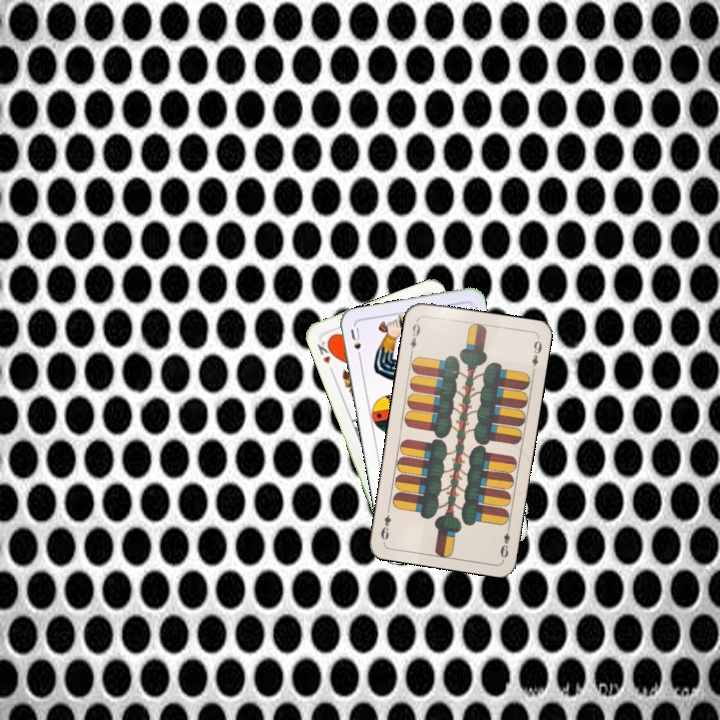E9: (406, 316, 423, 356), (496, 521, 513, 560)
HK: (313, 336, 337, 375)
SU: (346, 323, 364, 363)
